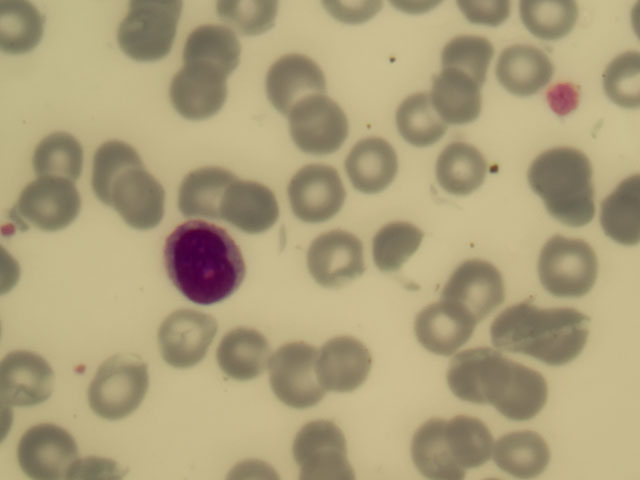Platelets: (547, 83, 576, 113), (1, 220, 16, 237), (74, 363, 89, 375)
RBC: (116, 10, 176, 57), (179, 23, 239, 70), (171, 67, 231, 114), (88, 139, 148, 186), (34, 129, 94, 176), (16, 183, 76, 230), (115, 172, 175, 219), (167, 162, 227, 209), (221, 181, 281, 228), (288, 167, 348, 214), (292, 105, 352, 152), (263, 54, 323, 101), (349, 143, 409, 190), (399, 92, 459, 139), (420, 71, 480, 118), (439, 27, 499, 74), (436, 142, 496, 189), (371, 215, 431, 262), (317, 239, 377, 286), (307, 335, 367, 382), (266, 353, 326, 400), (214, 335, 274, 382), (174, 322, 234, 369), (79, 372, 139, 419), (21, 429, 81, 476), (293, 423, 353, 470), (405, 427, 465, 474), (440, 413, 500, 460), (503, 433, 563, 480), (496, 365, 556, 412), (436, 346, 496, 393), (411, 305, 471, 352), (439, 263, 499, 310), (543, 243, 603, 290), (537, 177, 597, 224), (528, 138, 588, 185), (493, 39, 553, 86), (522, 1, 582, 47)
WBC: (165, 224, 252, 304)
